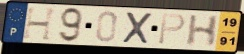0: (94, 10, 119, 44)
9: (58, 7, 84, 44)
H: (21, 7, 59, 42), (185, 14, 222, 48)
P: (157, 13, 187, 46)
X: (121, 10, 155, 46)
